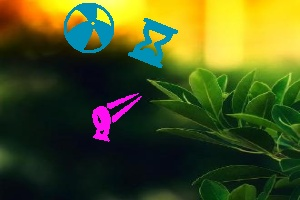发送两激光: (89, 91, 144, 142)
帽子: (65, 3, 114, 53)
沙漏: (130, 18, 176, 68)
